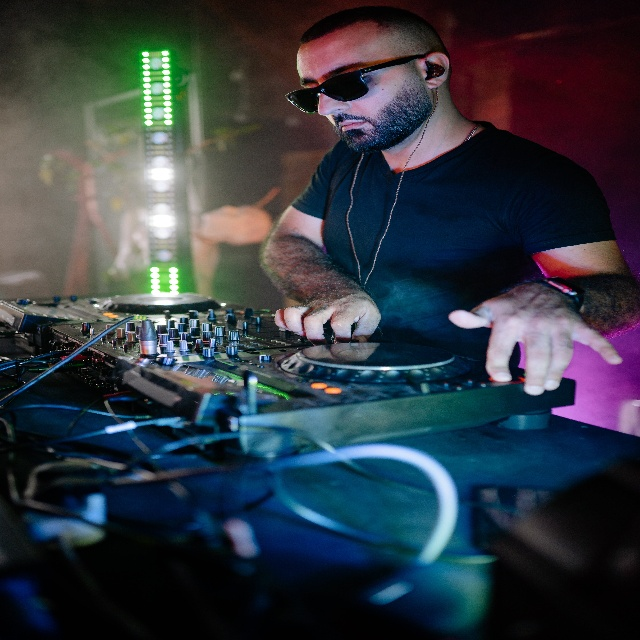Gafas: (284, 53, 425, 113)
Sin_guantes: (448, 281, 623, 395), (274, 287, 382, 343)
